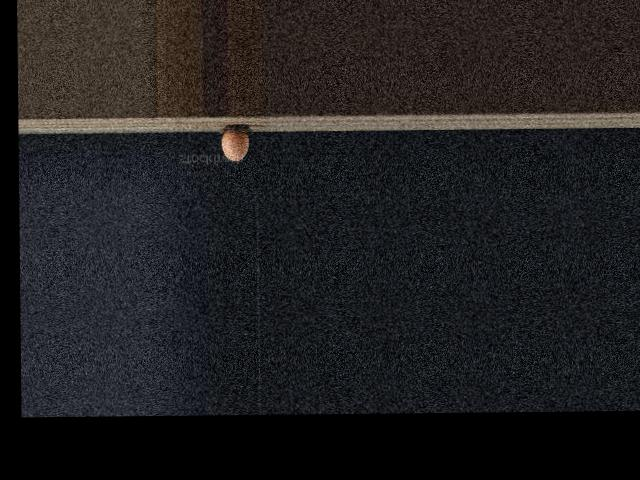egg: (222, 131, 249, 161)
